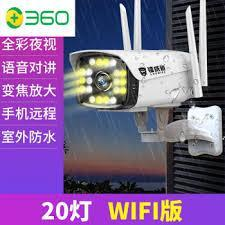tutu: (74, 43, 225, 118)
